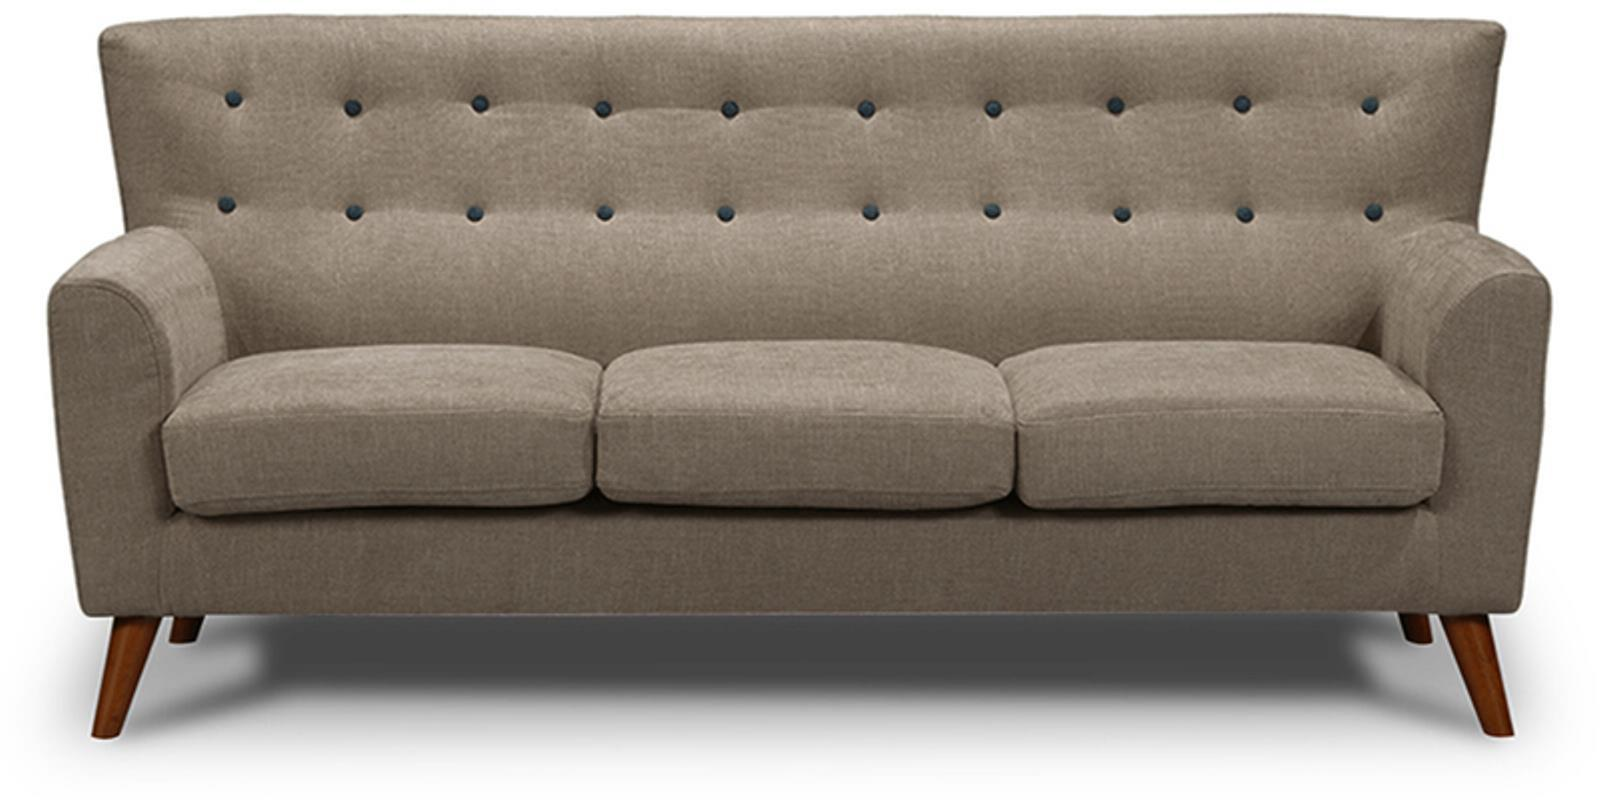Havana Three Seater Sofa in Ecru Colour by CasaCraft: (34, 3, 1560, 800)
